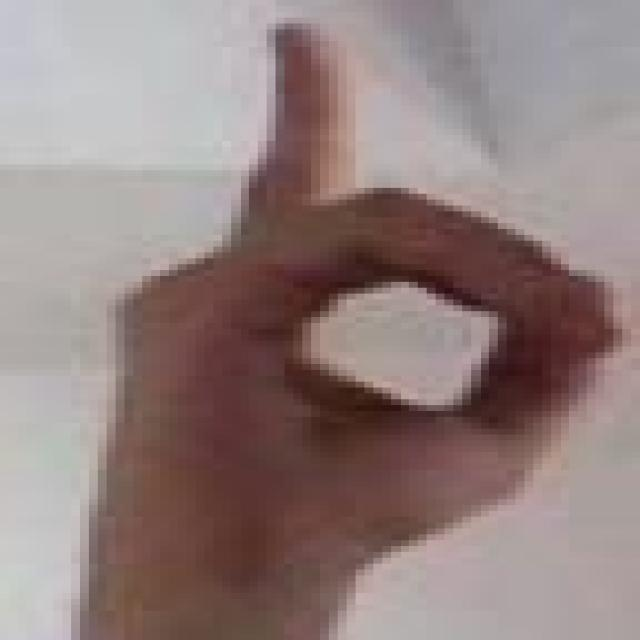D1: (8, 5, 640, 591)
